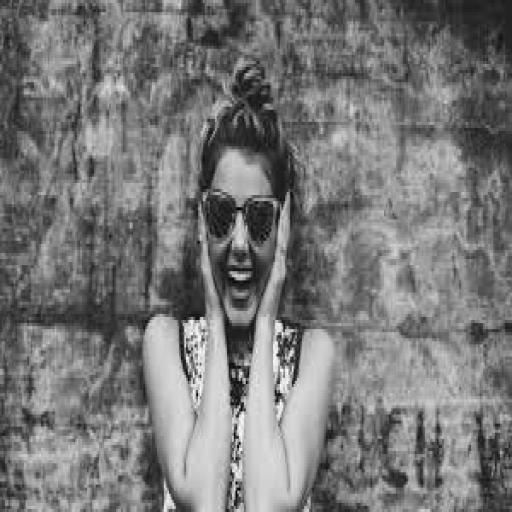laughing: (135, 52, 341, 503)
